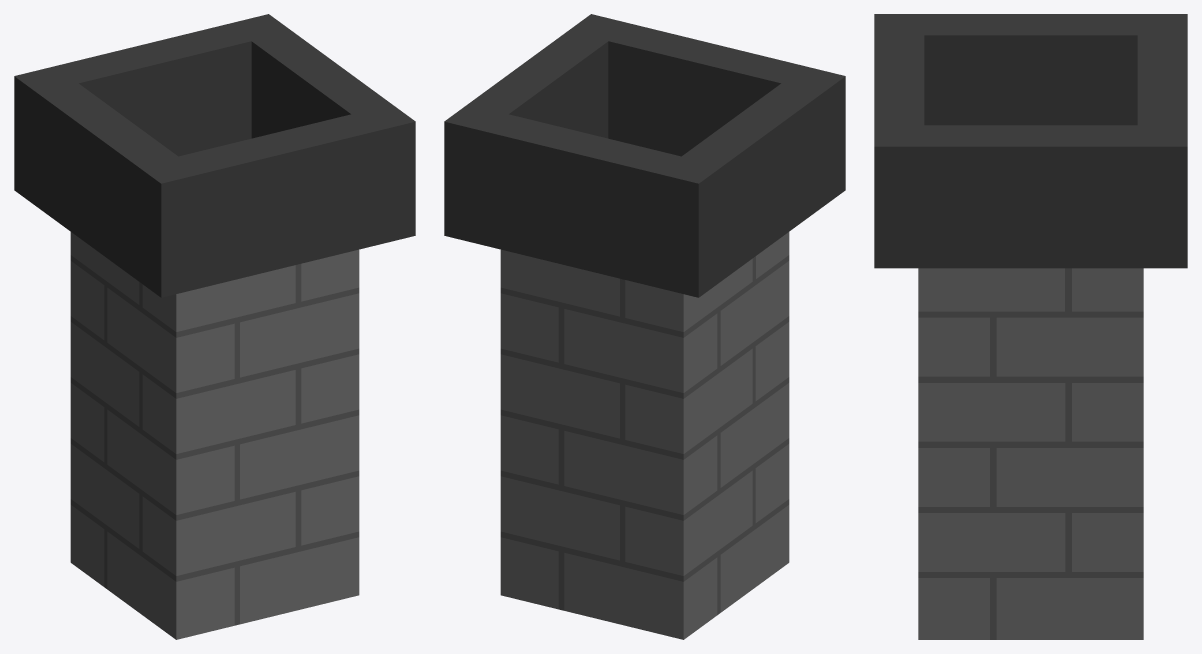
Rendered from Chimney1_C6.fbx.
3 views of the same model, side by side, from view 1: azimuth 30°, elevation 25°; view 2: azimuth 150°, elevation 25°; view 3: azimuth 270°, elevation 25° (orthographic). The views are drawn at different scales.
Parts seen in each view (by area): view 1: Chimney1_C6; view 2: Chimney1_C6; view 3: Chimney1_C6.
Boxes of the visible parts, left/top/right/bottom form: Chimney1_C6: left=14, top=14, right=415, bottom=639; Chimney1_C6: left=444, top=14, right=845, bottom=639; Chimney1_C6: left=874, top=14, right=1187, bottom=639.
Size of the model in its own units: 55.59 by 100 by 55.59.
